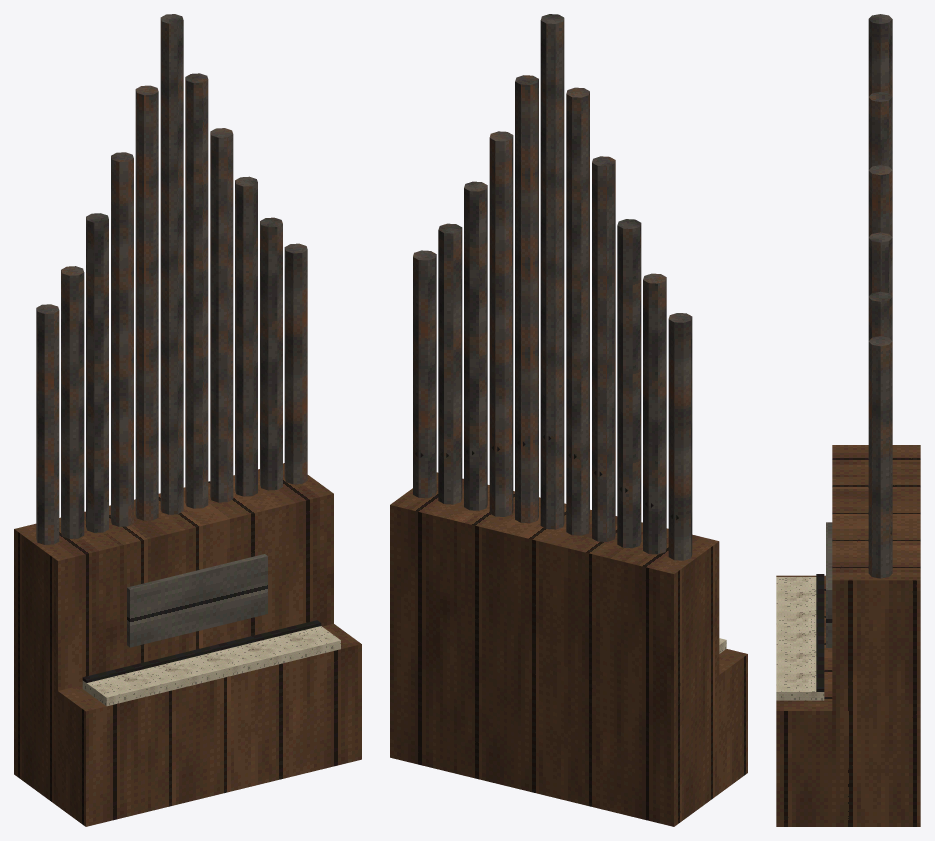
File: organo.obj
The picture shows the model from 3 angles, left to right: view 1: azimuth 30°, elevation 25°; view 2: azimuth 150°, elevation 25°; view 3: azimuth 270°, elevation 25°; orthographic projection. The views are drawn at different scales.
Parts seen in each view (by area): view 1: organo; view 2: organo; view 3: organo.
Part boxes in pixels (x1,y1,x2,y2): organo: (14,14,361,826); organo: (390,14,747,826); organo: (776,14,920,826).
Bounding box in the file's own units: 2 × 5.1 × 0.9.
Materials: 5 (5 with a texture image).
